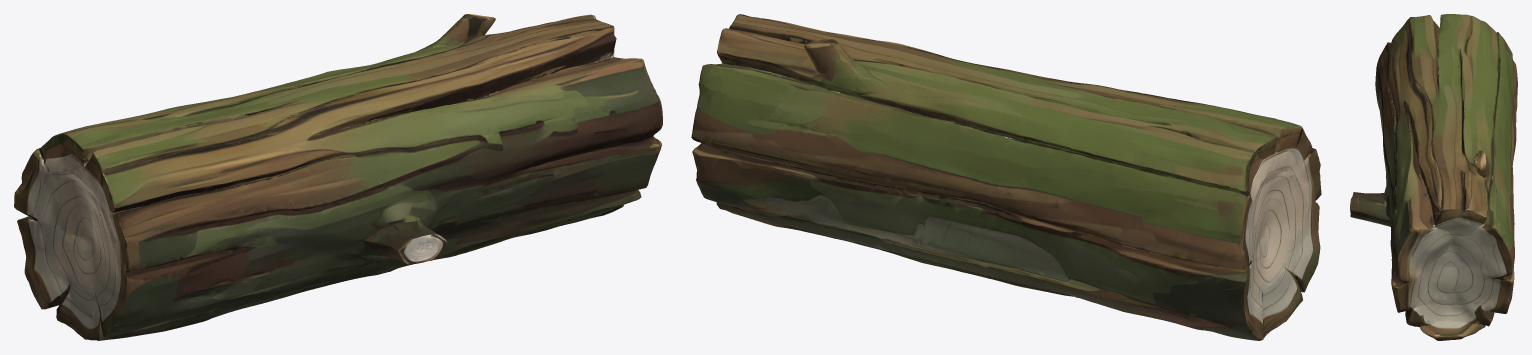
The model's file is item_log.glb.
3 renders of one model, left to right at view 1: azimuth 30°, elevation 25°; view 2: azimuth 150°, elevation 25°; view 3: azimuth 270°, elevation 25°, orthographic. The views are drawn at different scales.
Visible parts, largest first — view 1: item_log; view 2: item_log; view 3: item_log.
Part boxes in pixels (x1,y1,x2,y2): item_log: [14, 14, 662, 340]; item_log: [691, 14, 1321, 340]; item_log: [1350, 14, 1517, 340].
Bounding box in the file's own units: 0.7 × 0.2365 × 0.2446.
1 material, 1 textured.
